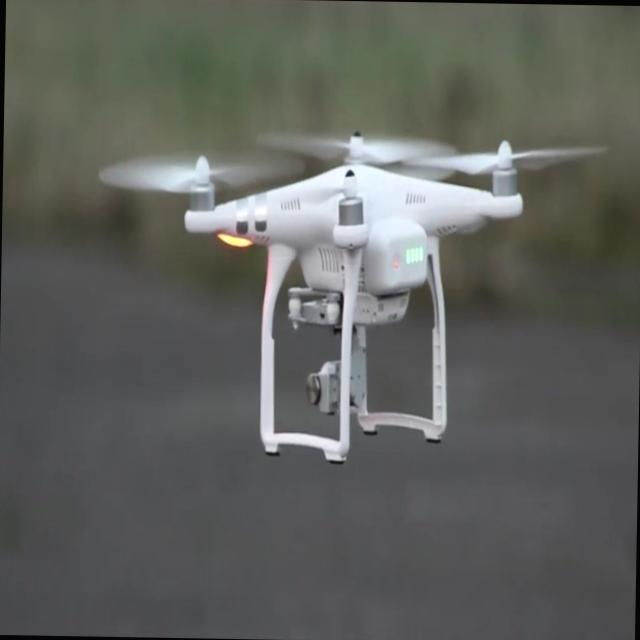drone: (178, 128, 524, 466)
